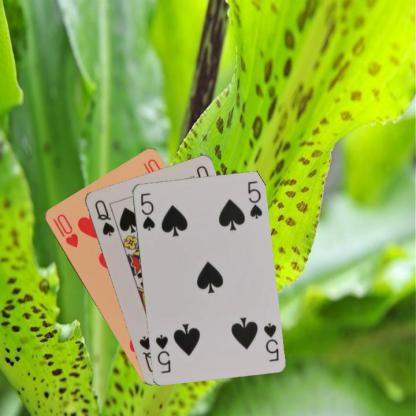10h: (50, 211, 80, 249)
5s: (260, 320, 280, 363), (138, 190, 156, 232)
Qs: (91, 197, 116, 237)
